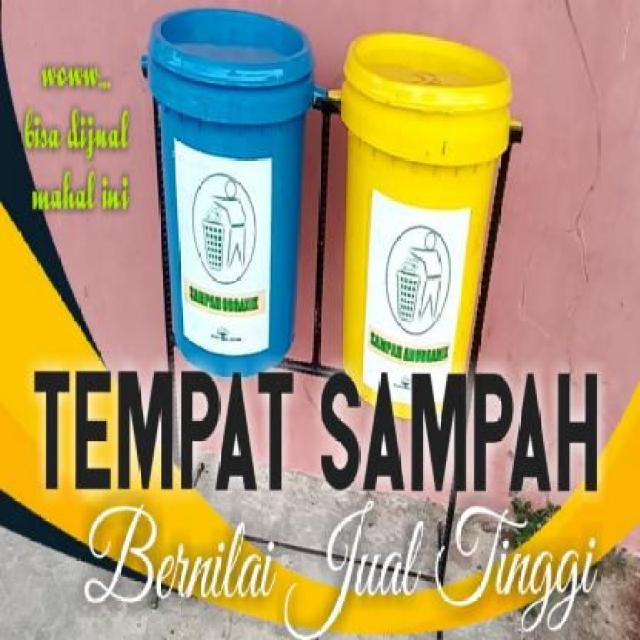garbage container: (329, 26, 520, 420), (137, 8, 320, 382)
